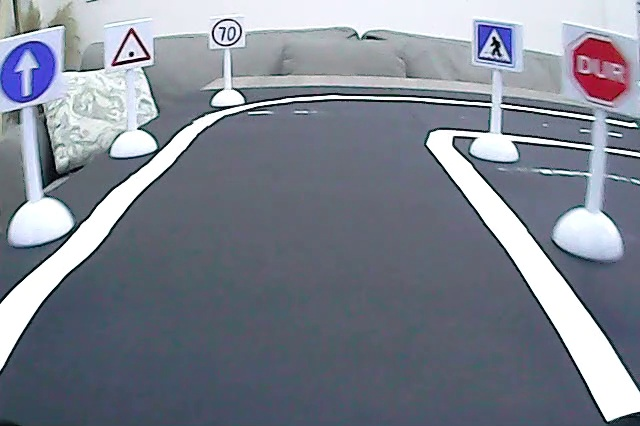green light: (108, 24, 153, 69)
pedestrian crossing: (474, 19, 518, 68)
speed limit 70: (210, 16, 246, 49)
stop sign: (568, 29, 634, 111)
